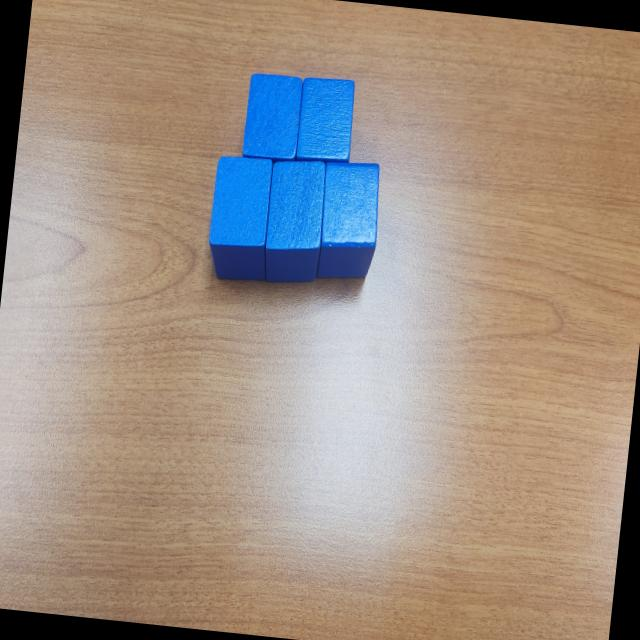blue: (202, 153, 276, 284), (258, 154, 329, 288), (314, 158, 384, 283), (240, 71, 306, 163), (292, 76, 358, 166)
